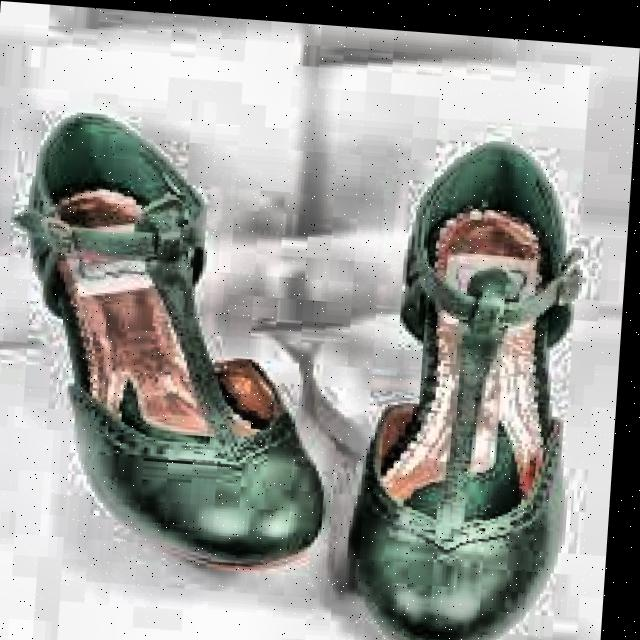shoes: (0, 100, 608, 640)
